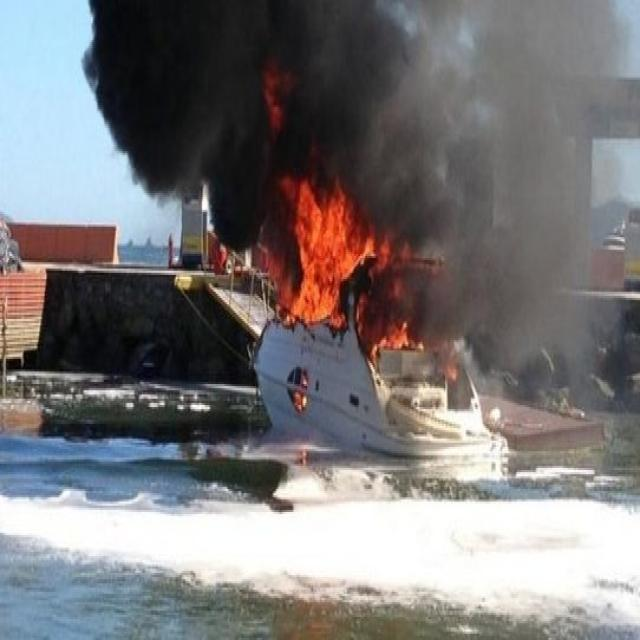Fire: (277, 164, 388, 328), (377, 308, 418, 365)
Smoke: (403, 0, 640, 376), (72, 0, 419, 246)
